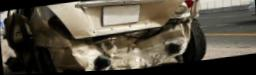Bumper: (46, 24, 192, 73)
Light: (169, 0, 195, 22)
